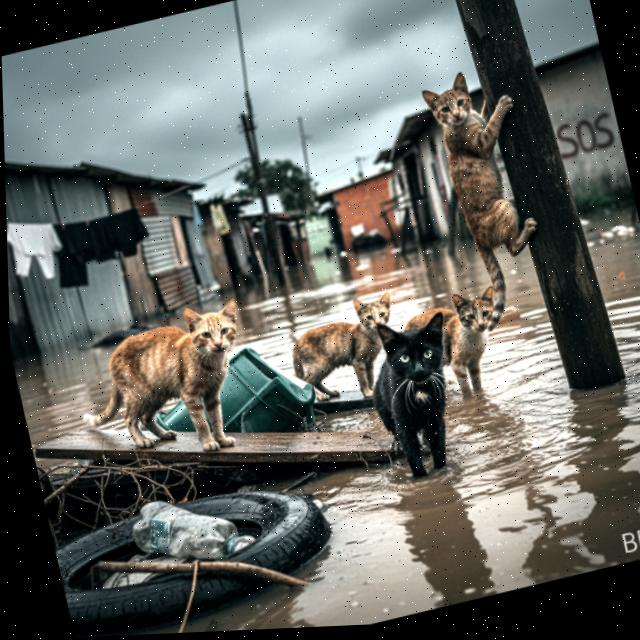cat: (412, 54, 569, 337), (57, 292, 275, 484), (361, 308, 476, 488), (273, 286, 417, 415), (397, 290, 514, 410)
